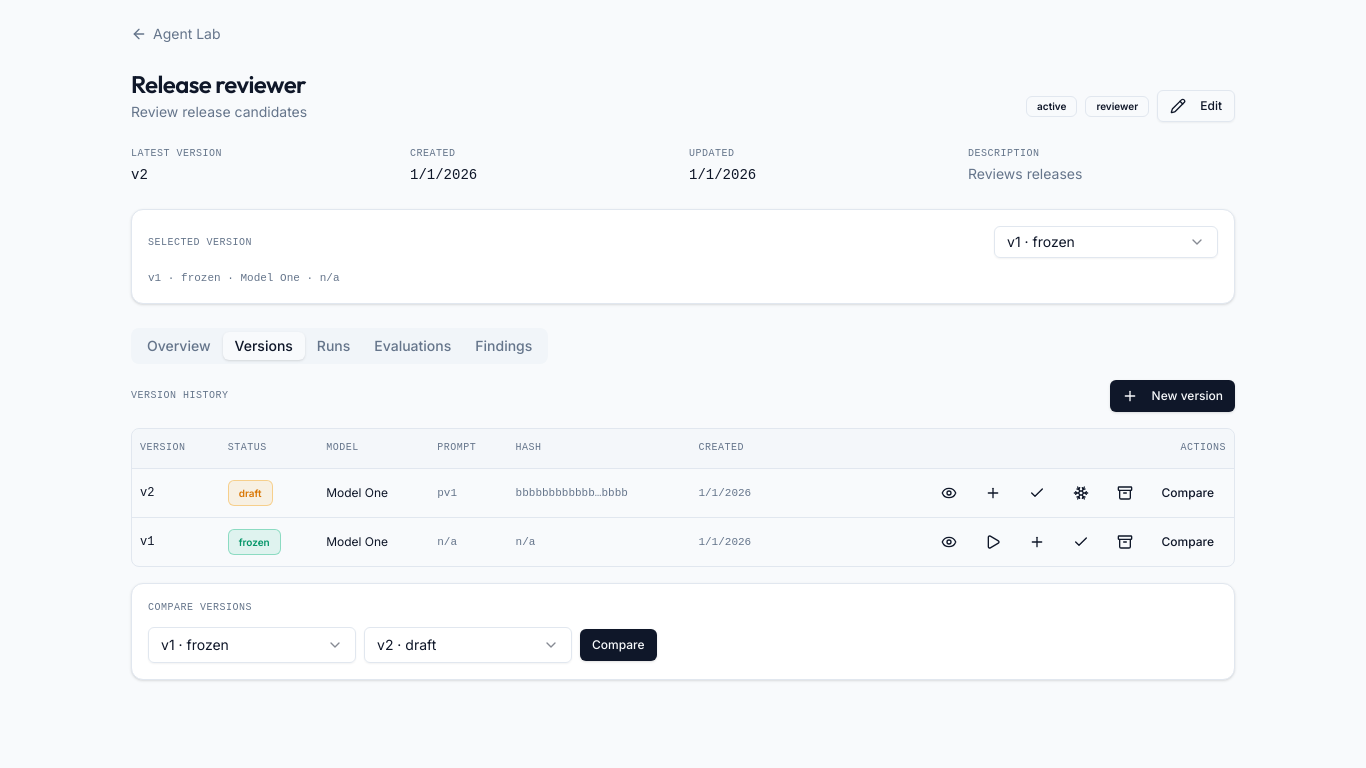
an empty denial list renders the no-denials message
The image size is (1366, 768).
Click the button with test id "agent-run-open": (994, 542) [974,526,1014,558]
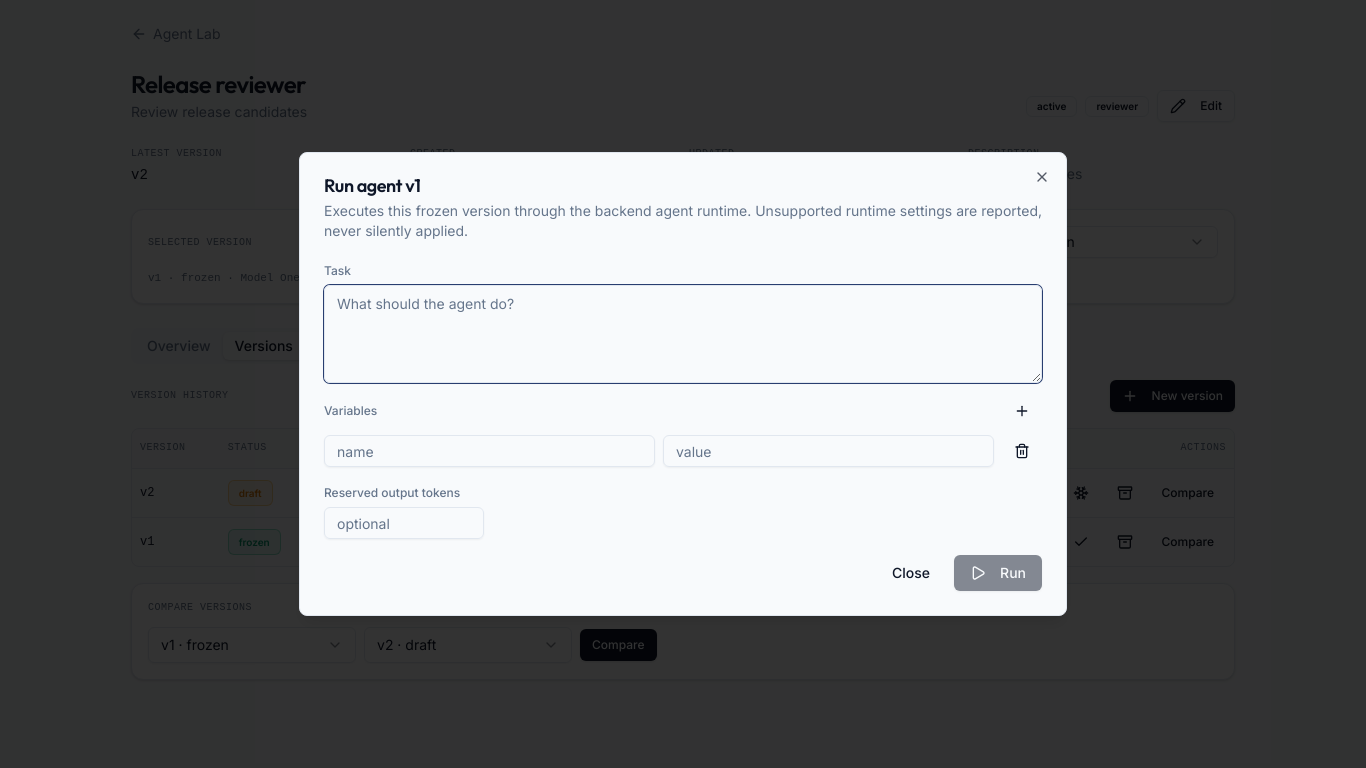
Now the dialog with test id "agent-run-dialog" is shown, box [299,152,1067,616]
In the text box with test id "agent-run-task": (683, 334) [324,285,1042,383], type "Check permissions"
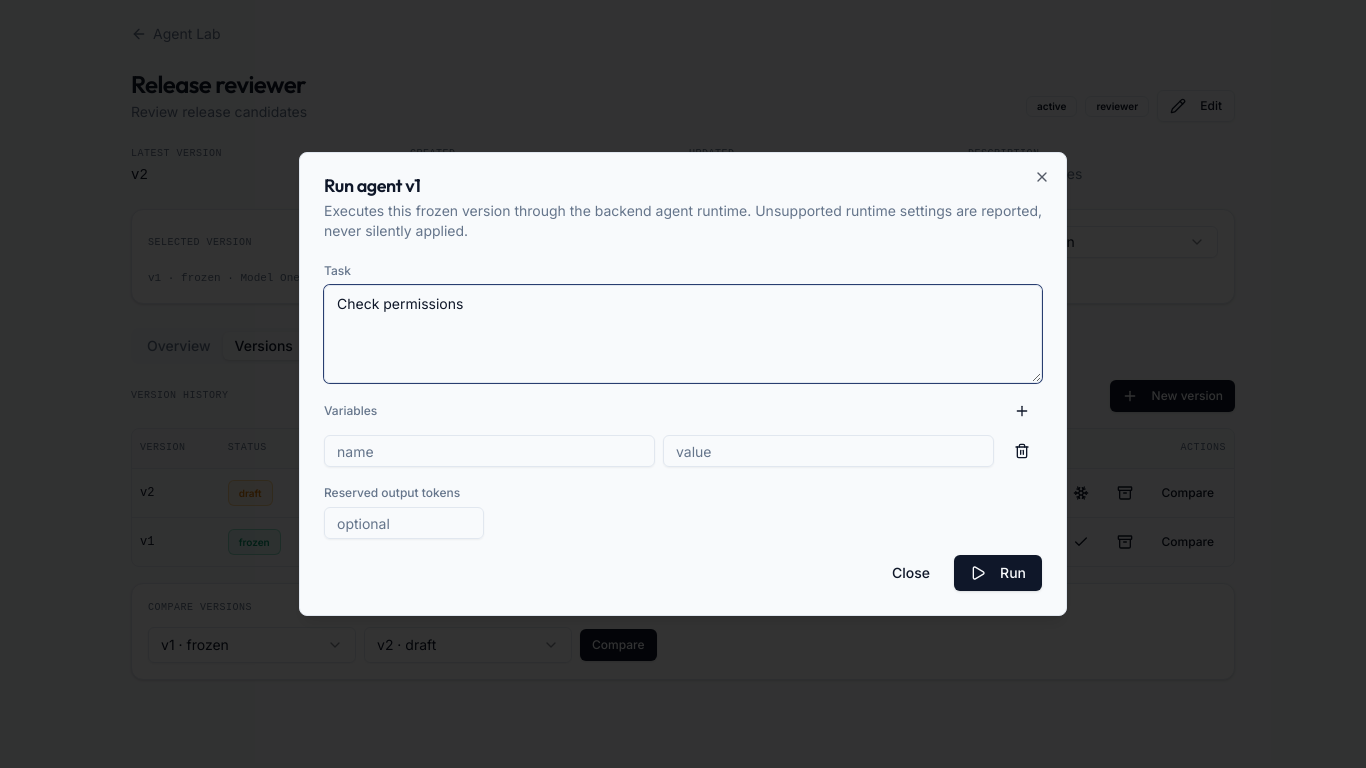
Click the button with test id "agent-run-submit": (998, 573) [954,555,1042,591]
(page scrolled)
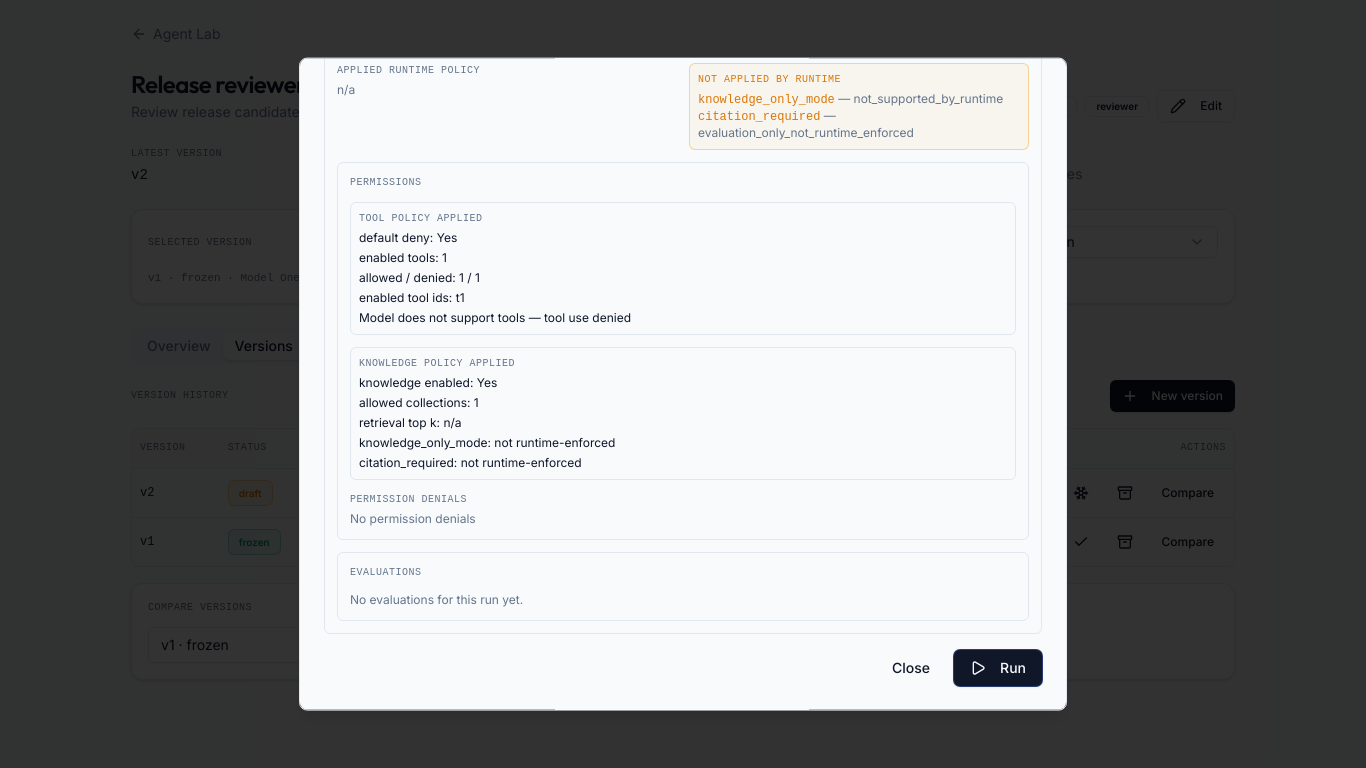
Now the text "No permission denials" is shown, box [350,511,476,526]
